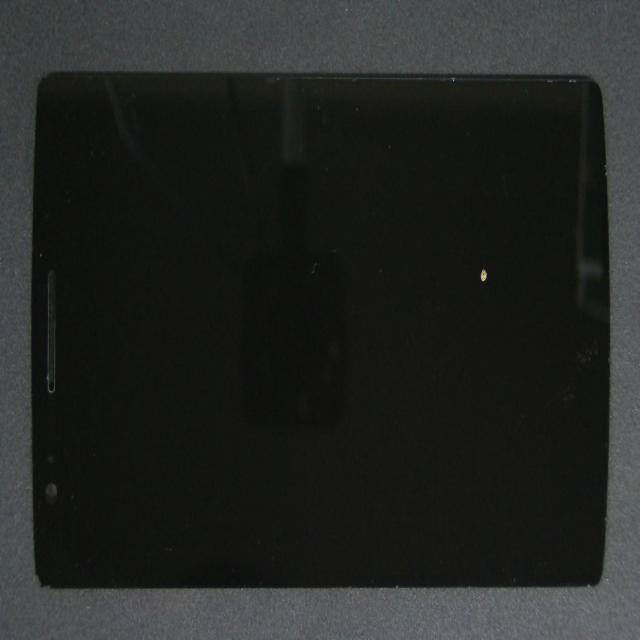stain: (258, 197, 640, 440)
